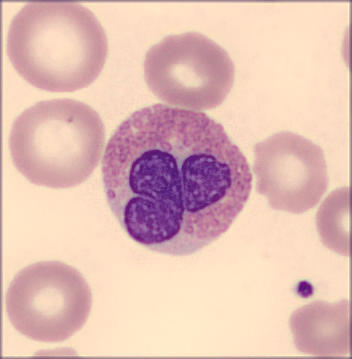EO: (101, 104, 253, 254)
PLT: (294, 280, 317, 300)
RBC: (4, 1, 111, 93), (6, 97, 105, 190), (144, 31, 237, 112), (6, 261, 95, 341), (253, 129, 327, 217), (313, 185, 351, 259)
